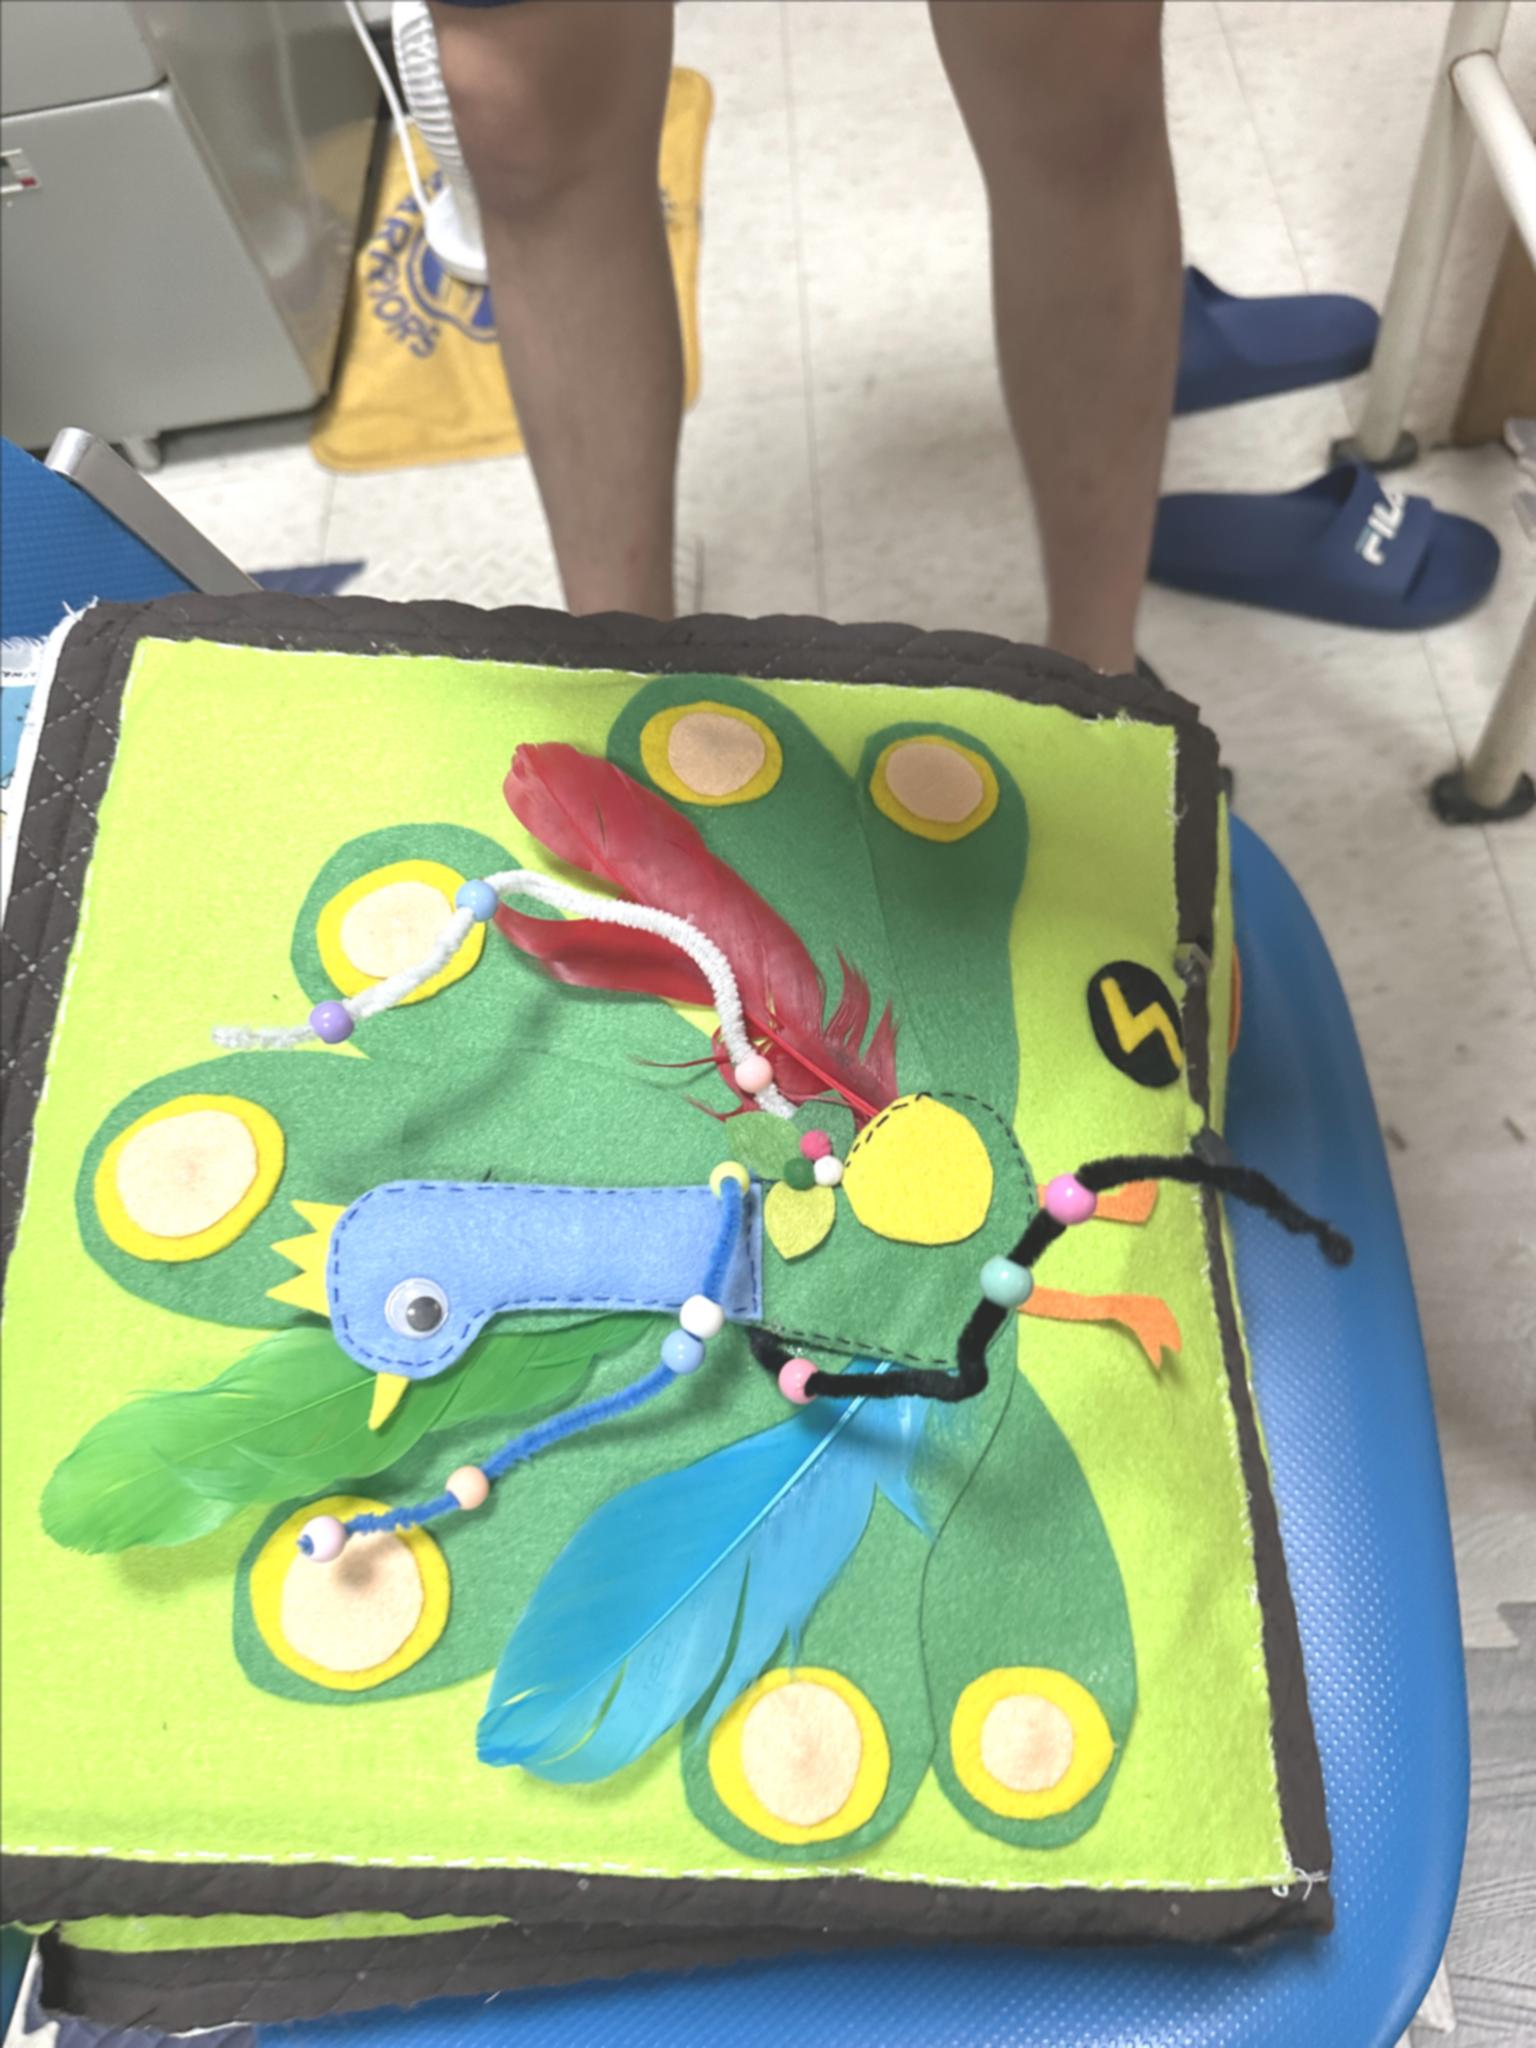bead: (286, 1500, 369, 1579), (1039, 1147, 1115, 1234), (431, 1440, 499, 1526), (973, 1248, 1042, 1313), (649, 1324, 720, 1377), (770, 1345, 816, 1408), (310, 985, 352, 1051), (466, 863, 505, 929), (686, 1271, 718, 1343), (734, 1056, 787, 1100)
